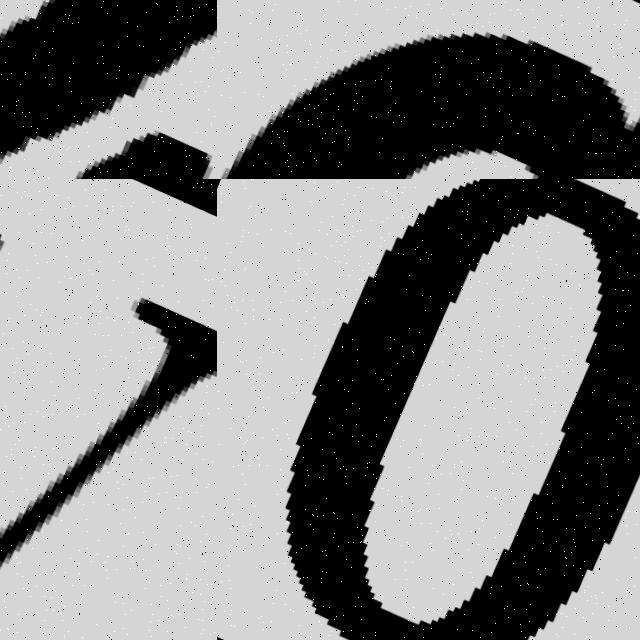0: (218, 179, 640, 640)
Q: (217, 0, 640, 179)
T: (0, 0, 217, 179)
V: (0, 179, 217, 640)
